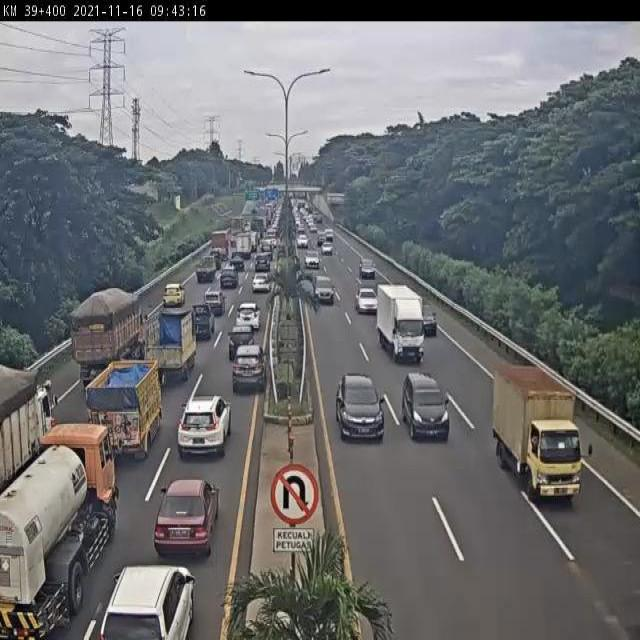car: (102, 565, 193, 640), (155, 480, 218, 557), (399, 370, 457, 438), (175, 398, 232, 466), (332, 375, 381, 436), (230, 346, 265, 398), (186, 306, 213, 342), (228, 323, 254, 357), (414, 302, 440, 330), (237, 304, 260, 331), (196, 256, 218, 284), (311, 268, 332, 297), (159, 284, 183, 309), (358, 284, 377, 315), (204, 288, 225, 315), (356, 256, 376, 283), (219, 267, 239, 288), (250, 275, 269, 297), (254, 259, 271, 280), (304, 245, 319, 268), (227, 256, 243, 275), (318, 237, 333, 255), (260, 242, 273, 262), (205, 254, 217, 274)
small truck: (235, 234, 252, 262)
truck-l-: (70, 290, 148, 394), (0, 364, 60, 489)
truck-m-: (1, 422, 119, 638), (487, 364, 585, 501), (88, 363, 162, 461), (138, 312, 192, 389), (374, 284, 426, 363), (208, 232, 227, 263)
